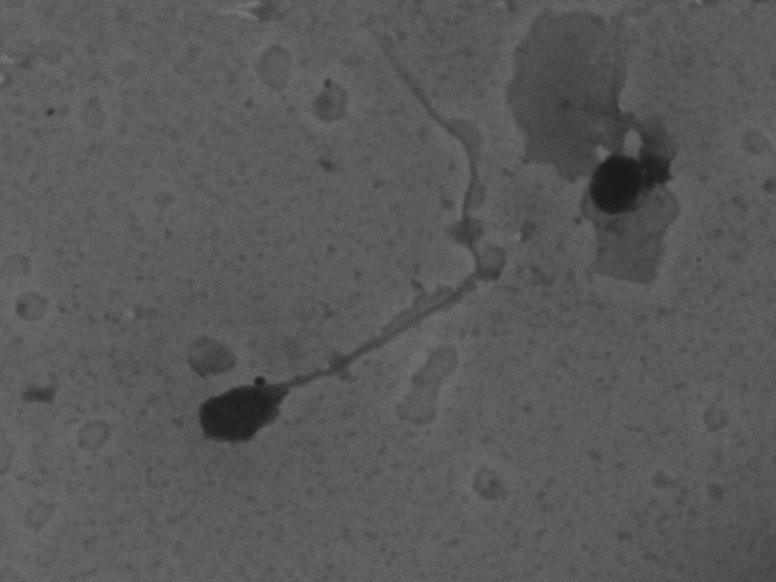Abnormal: (168, 26, 501, 485), (569, 26, 684, 251)
